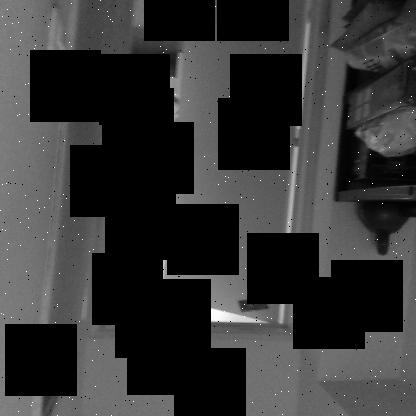Porte: (86, 1, 328, 342)
